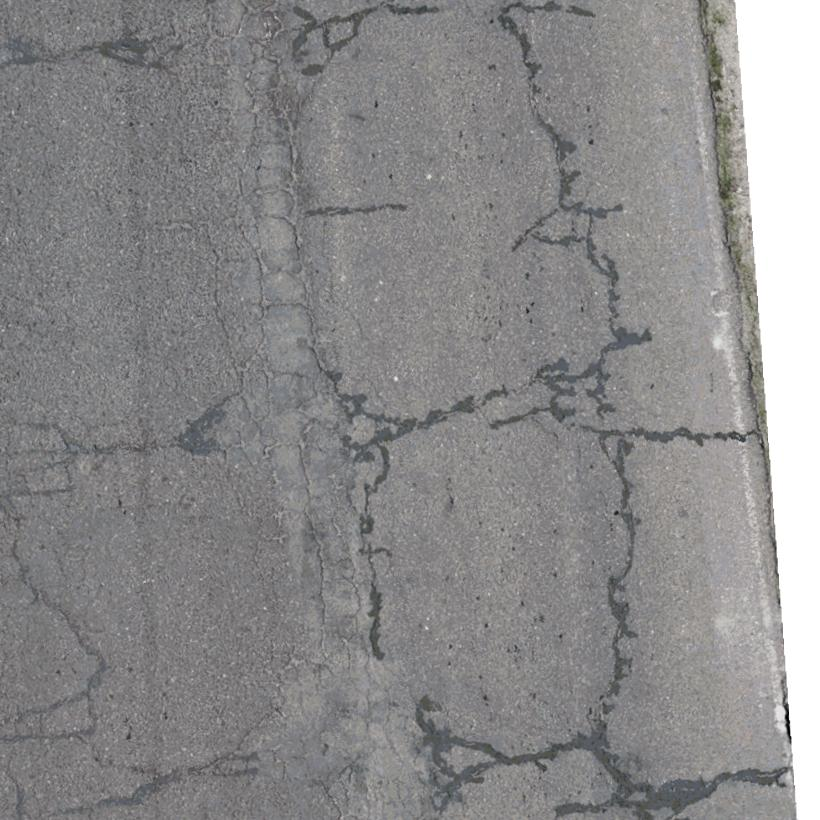GRIETA: (498, 13, 623, 219), (593, 473, 641, 748), (556, 767, 788, 816), (504, 736, 653, 797), (52, 763, 216, 816), (0, 46, 167, 70), (585, 215, 619, 329), (417, 395, 487, 430), (649, 427, 758, 448), (500, 0, 597, 18), (91, 440, 200, 455), (308, 203, 409, 216)
PIEL DE COCODRILO: (172, 0, 505, 819), (0, 400, 115, 819), (487, 320, 667, 476)
